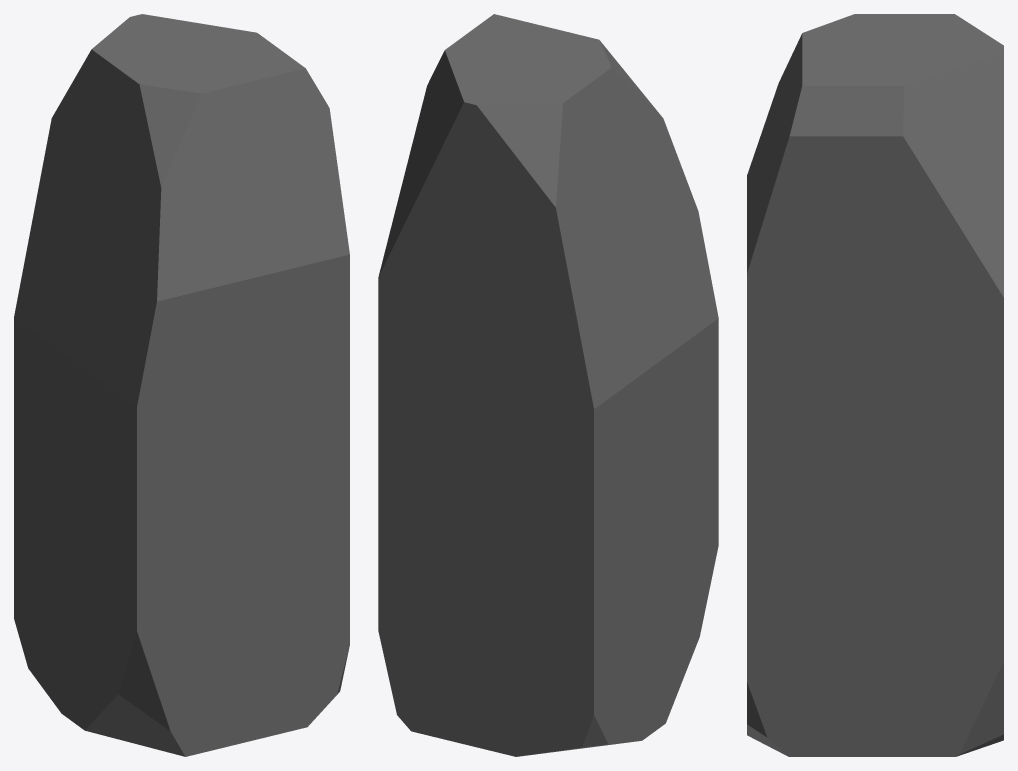
The model's file is Rock_10.fbx.
3 renders of one model, left to right at view 1: azimuth 30°, elevation 25°; view 2: azimuth 150°, elevation 25°; view 3: azimuth 270°, elevation 25°, orthographic. The views are drawn at different scales.
Parts seen in each view (by area): view 1: Rock_10_LOD0; view 2: Rock_10_LOD0; view 3: Rock_10_LOD0.
Boxes of the visible parts, <box> form: Rock_10_LOD0: <box>14,14,349,756</box>; Rock_10_LOD0: <box>378,14,718,756</box>; Rock_10_LOD0: <box>747,14,1003,756</box>.
Size of what is drawn, in the model's own units: 0.7548 by 2.15 by 0.7548.
